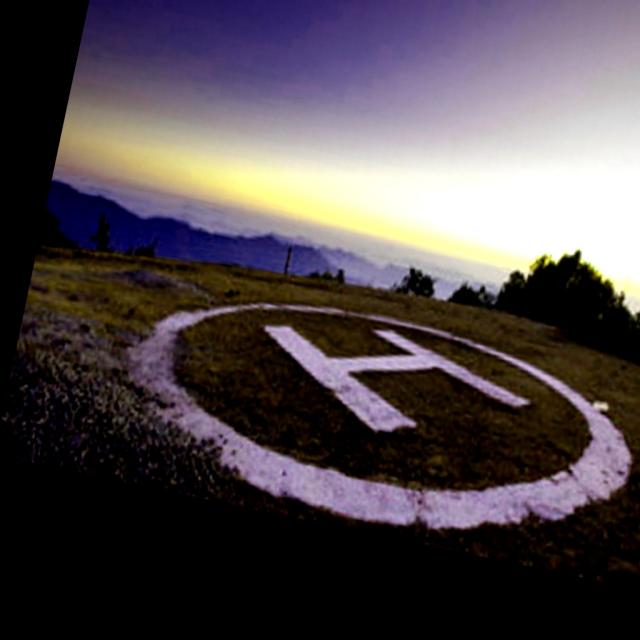helipad: (124, 294, 636, 540)
